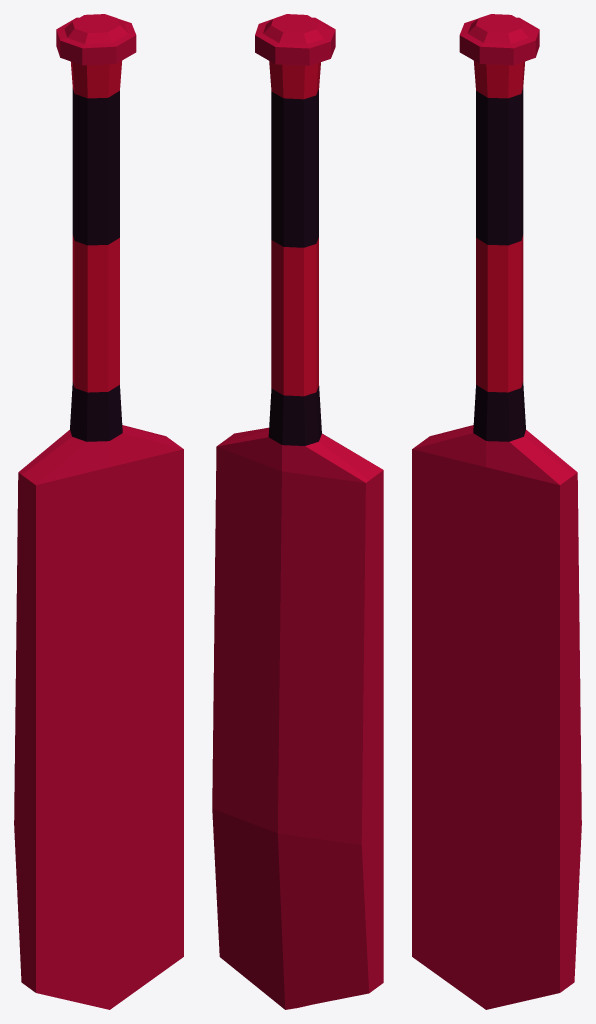
The model's file is CricketBat_01.fbx.
The picture shows the model from 3 angles, left to right: view 1: azimuth 30°, elevation 25°; view 2: azimuth 150°, elevation 25°; view 3: azimuth 330°, elevation 25°; orthographic projection.
Visible parts, largest first — view 1: CricketBat_01; view 2: CricketBat_01; view 3: CricketBat_01.
Part boxes in pixels (left/top/right/bottom): CricketBat_01: left=14, top=14, right=183, bottom=1009; CricketBat_01: left=212, top=14, right=383, bottom=1009; CricketBat_01: left=412, top=14, right=581, bottom=1009.
Size of the model in its own units: 1.56 by 9.85 by 0.7247.
